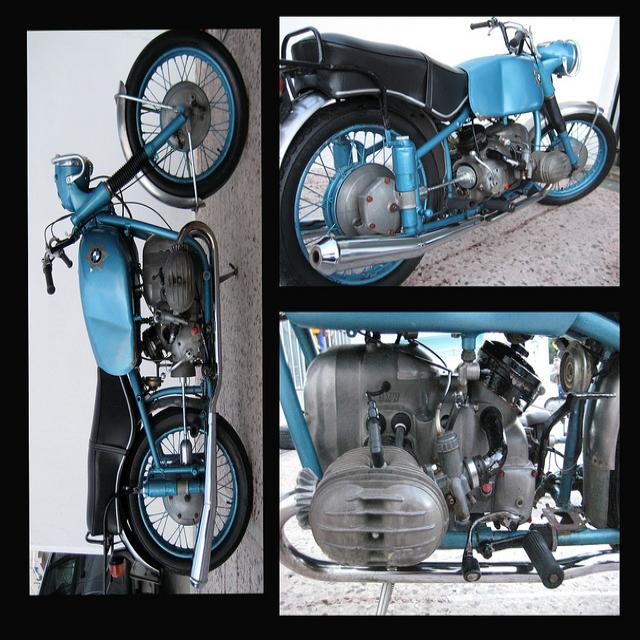motor: (44, 31, 251, 594), (270, 307, 624, 588), (279, 16, 616, 286)
